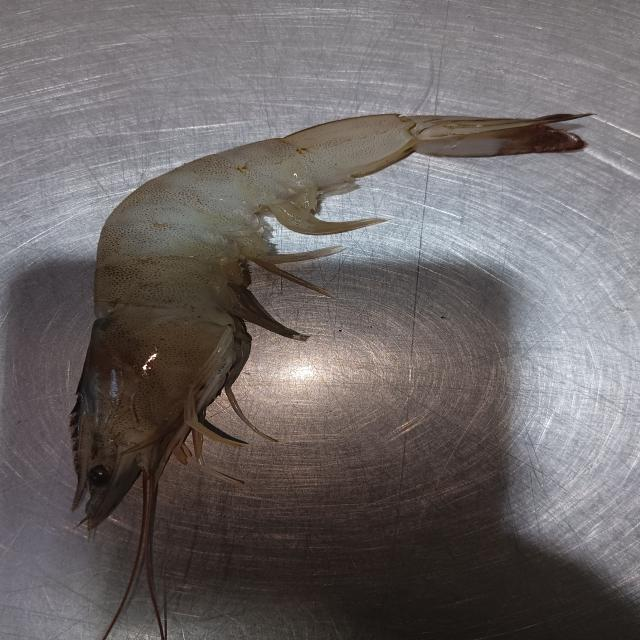shrimp: (80, 113, 580, 533)
